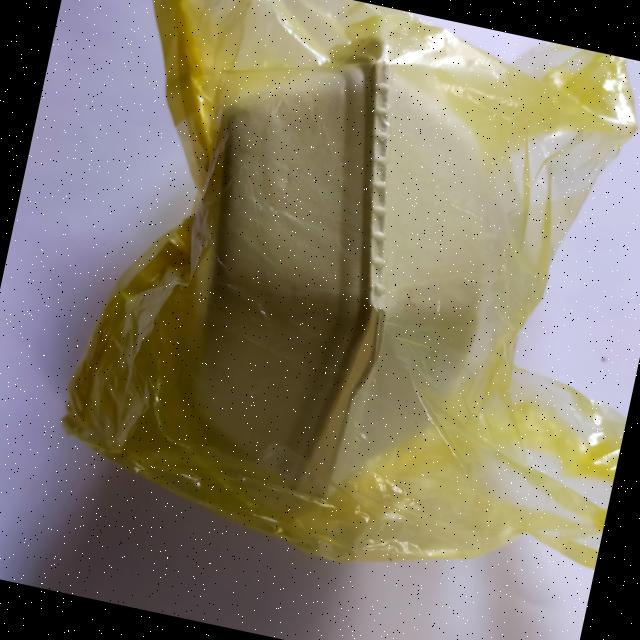styrofoam: (30, 0, 640, 614)
